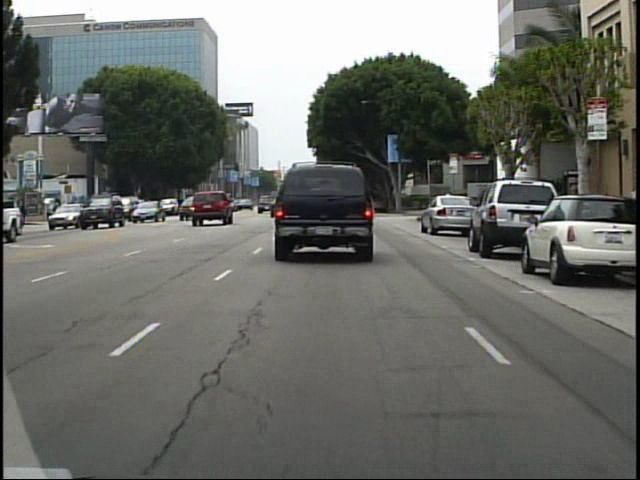person: (489, 176, 510, 223), (440, 186, 459, 226), (18, 200, 34, 227)
